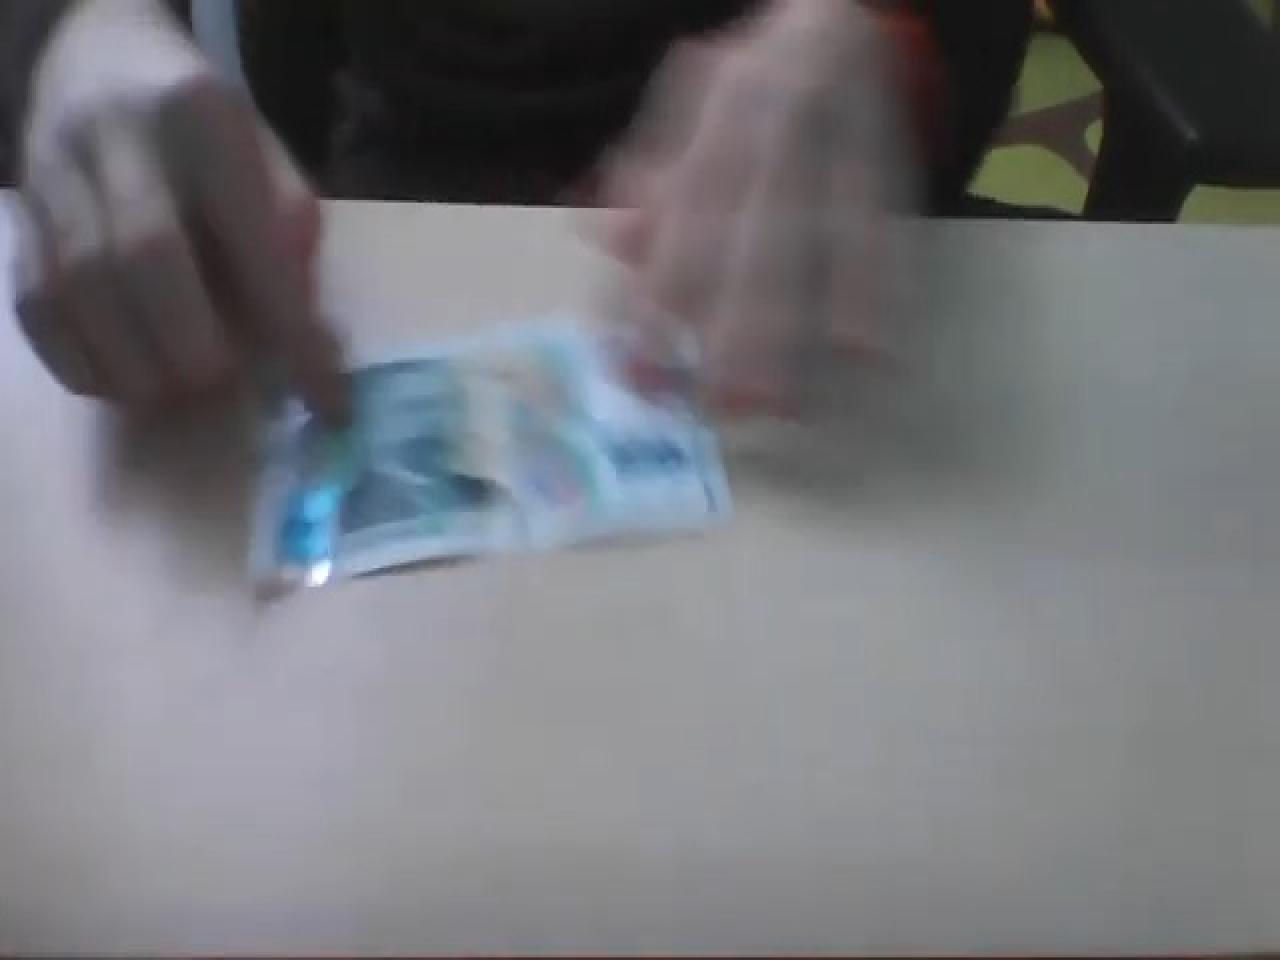100leva: (244, 320, 734, 605)
